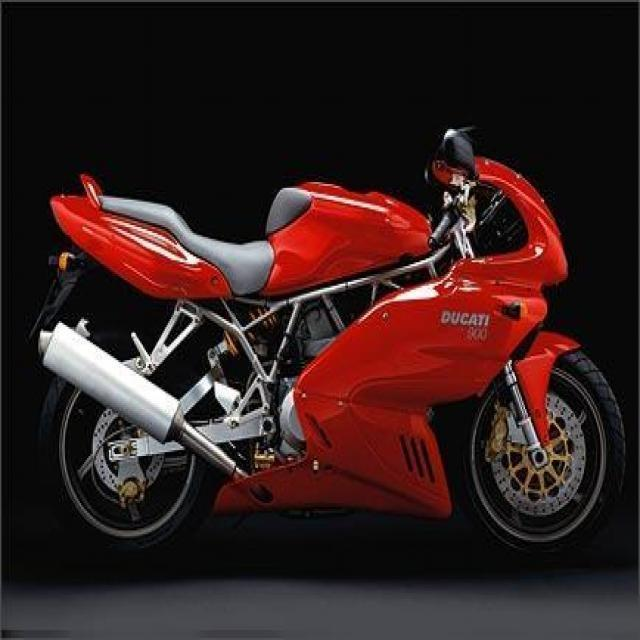Motorcycle: (31, 138, 632, 576)
